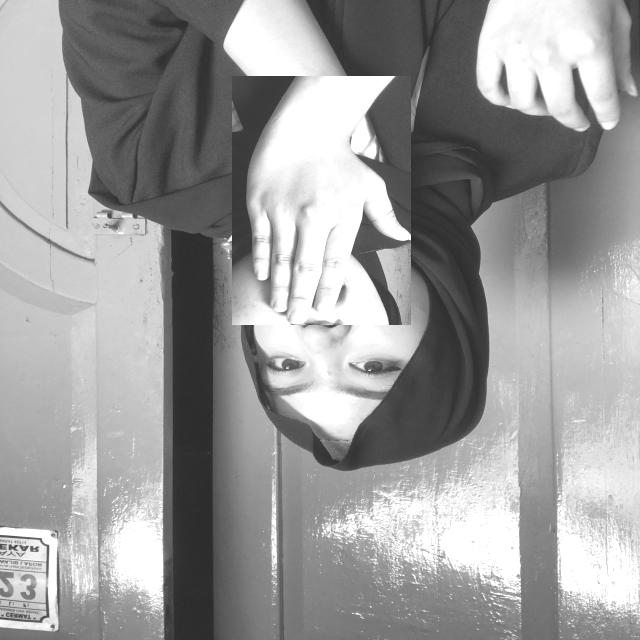ngantuk: (232, 76, 411, 325)
